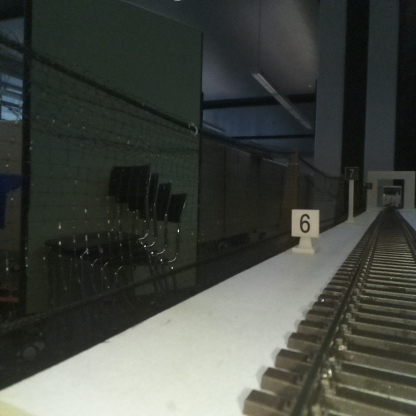white-stop-6: (291, 210, 319, 250)
